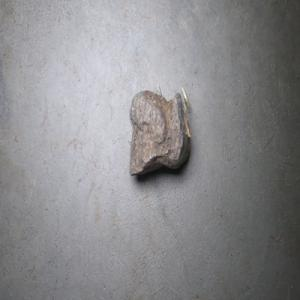Rock: (128, 86, 191, 176)
